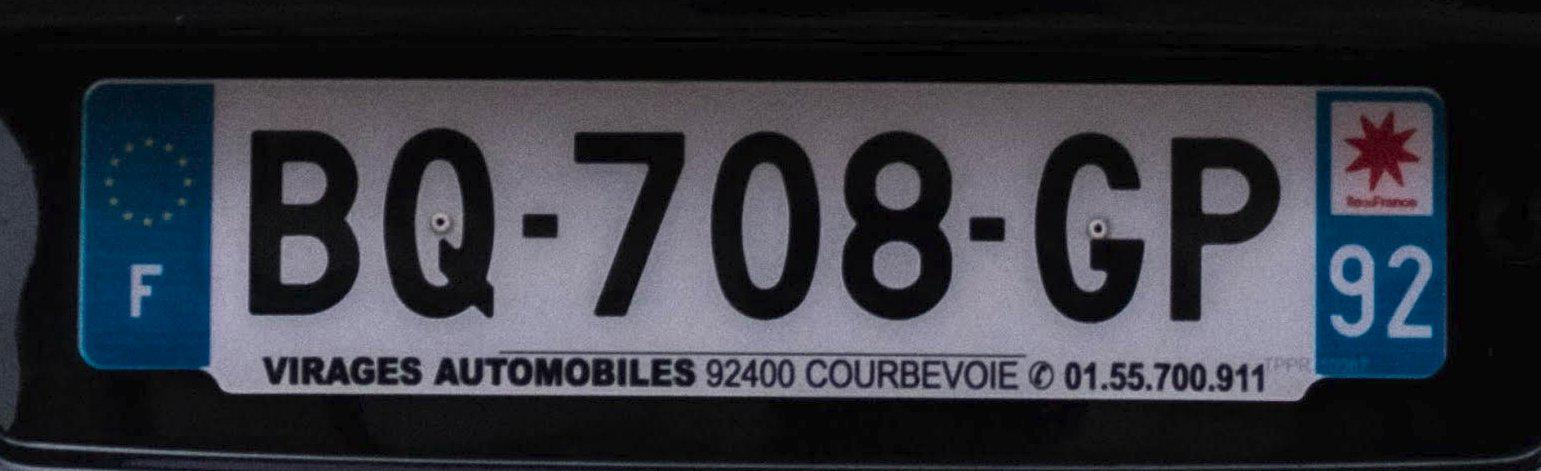0: (706, 125, 824, 325)
7: (566, 122, 693, 327)
8: (837, 128, 959, 322)
B: (243, 124, 364, 322)
G: (1033, 123, 1151, 326)
P: (1164, 128, 1285, 328)
Q: (378, 119, 506, 327)
